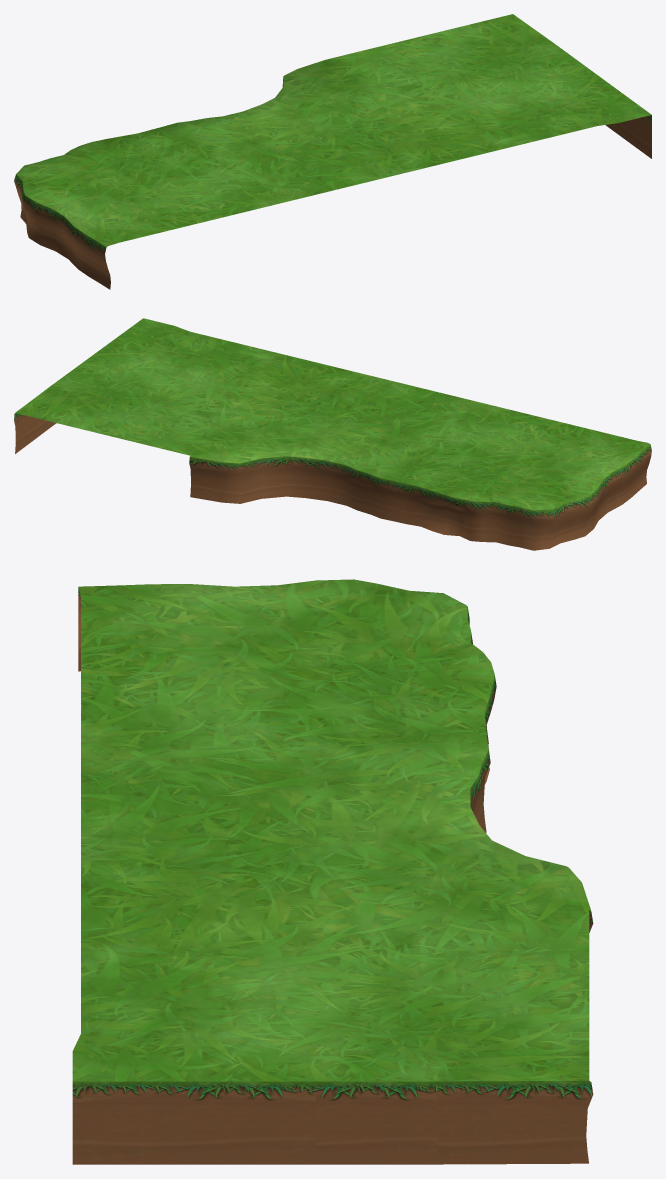
The model's file is lvl1_plat002.FBX.
3 views of the same model, one above another, from view 1: azimuth 30°, elevation 25°; view 2: azimuth 150°, elevation 25°; view 3: azimuth 270°, elevation 25° (orthographic). The views are drawn at different scales.
Visible parts, largest first — view 1: lvl1_plat002_grass, lvl1_plat002; view 2: lvl1_plat002_grass, lvl1_plat002; view 3: lvl1_plat002_grass, lvl1_plat002.
Part boxes in pixels (bbox=[...]): lvl1_plat002_grass: bbox=[16, 14, 651, 246]; lvl1_plat002: bbox=[14, 79, 651, 289]; lvl1_plat002_grass: bbox=[15, 318, 649, 510]; lvl1_plat002: bbox=[14, 413, 651, 550]; lvl1_plat002_grass: bbox=[72, 579, 590, 1081]; lvl1_plat002: bbox=[72, 587, 593, 1164].
Size of the model in its own units: 2888 by 221 by 1259.
